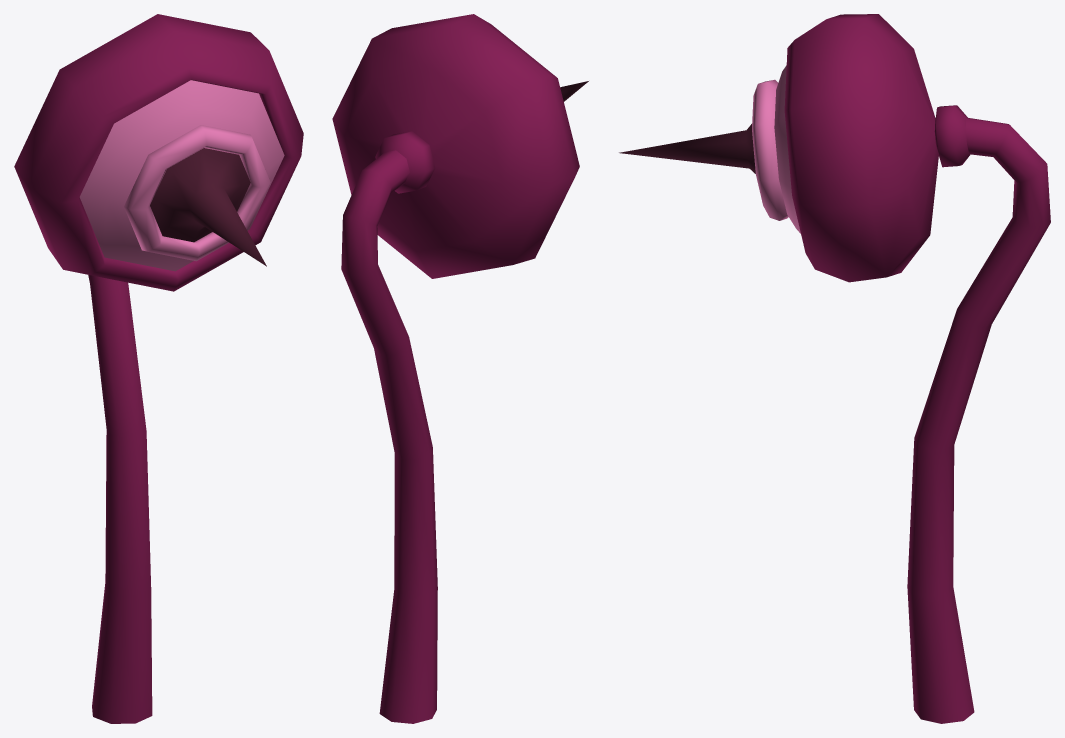
The model's file is Plant_1_3_purple.fbx.
The picture shows the model from 3 angles, left to right: view 1: azimuth 30°, elevation 25°; view 2: azimuth 150°, elevation 25°; view 3: azimuth 270°, elevation 25°; orthographic projection. The views are drawn at different scales.
Visible parts, largest first — view 1: Plant_1_3_purple; view 2: Plant_1_3_purple; view 3: Plant_1_3_purple.
Boxes of the visible parts, bbox=[...] form: Plant_1_3_purple: bbox=[14, 14, 303, 723]; Plant_1_3_purple: bbox=[332, 14, 588, 723]; Plant_1_3_purple: bbox=[619, 14, 1050, 723].
Bounding box in the file's own units: 0.9337 × 2.48 × 1.41.
